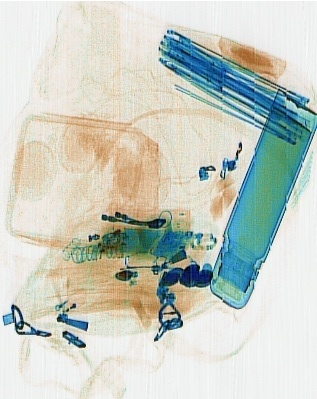lighter: (51, 286, 88, 325)
